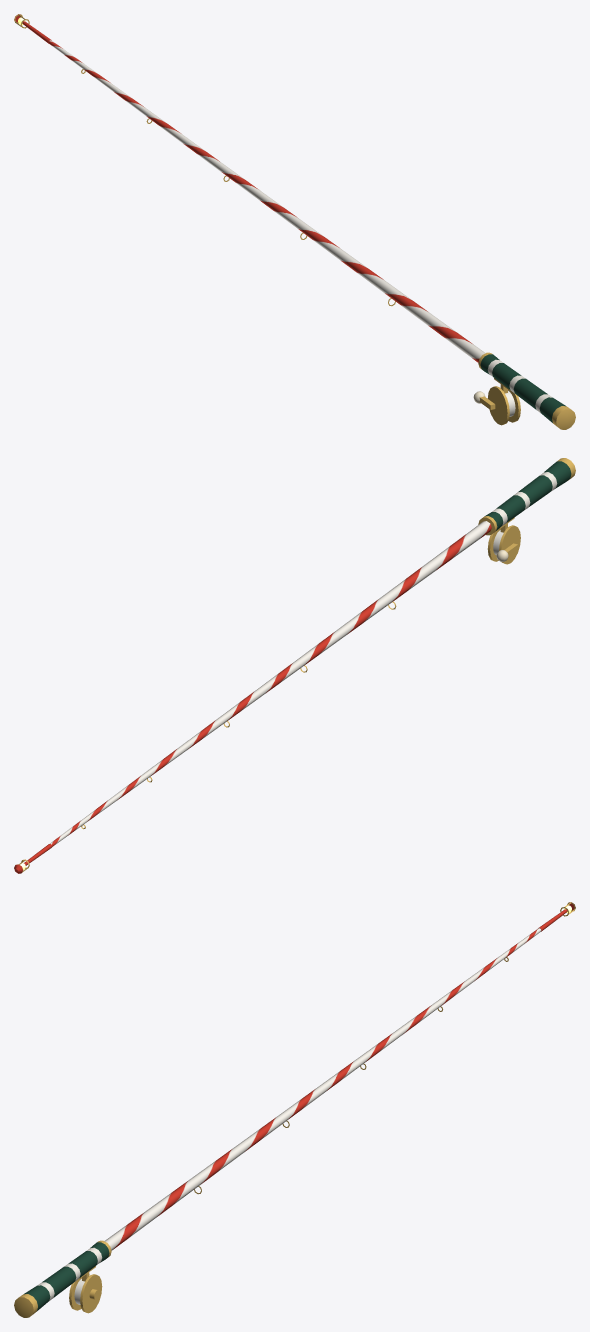
Rendered from rod-lighthouse.glb.
The picture shows the model from 3 angles, top to bottom: view 1: azimuth 30°, elevation 25°; view 2: azimuth 150°, elevation 25°; view 3: azimuth 330°, elevation 25°; orthographic projection.
Visible parts, largest first — view 1: handle, blank_0, blank_1, reel, blank_2, blank_3, blank_4; view 2: handle, blank_0, blank_1, blank_2, reel, blank_3, blank_4; view 3: handle, blank_0, blank_1, reel, blank_2, blank_3, blank_4.
Boxes of the visible parts, x1=… form: handle: x1=478, y1=352, x2=575, y2=429; blank_0: x1=394, y1=292, x2=485, y2=362; blank_1: x1=306, y1=228, x2=401, y2=306; reel: x1=487, y1=378, x2=520, y2=425; blank_2: x1=230, y1=172, x2=312, y2=239; blank_3: x1=153, y1=116, x2=234, y2=181; blank_4: x1=88, y1=69, x2=157, y2=123; handle: x1=478, y1=458, x2=575, y2=535; blank_0: x1=396, y1=521, x2=491, y2=594; blank_1: x1=308, y1=586, x2=402, y2=658; blank_2: x1=231, y1=651, x2=314, y2=714; reel: x1=487, y1=517, x2=520, y2=564; blank_3: x1=155, y1=708, x2=236, y2=770; blank_4: x1=89, y1=765, x2=158, y2=818; handle: x1=14, y1=1240, x2=111, y2=1317; blank_0: x1=104, y1=1180, x2=195, y2=1250; blank_1: x1=188, y1=1116, x2=283, y2=1194; reel: x1=69, y1=1266, x2=102, y2=1313; blank_2: x1=277, y1=1060, x2=359, y2=1127; blank_3: x1=355, y1=1004, x2=436, y2=1069; blank_4: x1=432, y1=957, x2=501, y2=1011.
Size of the model in its own units: 0.0735 by 0.146 by 2.5.
6 materials, 1 textured.
